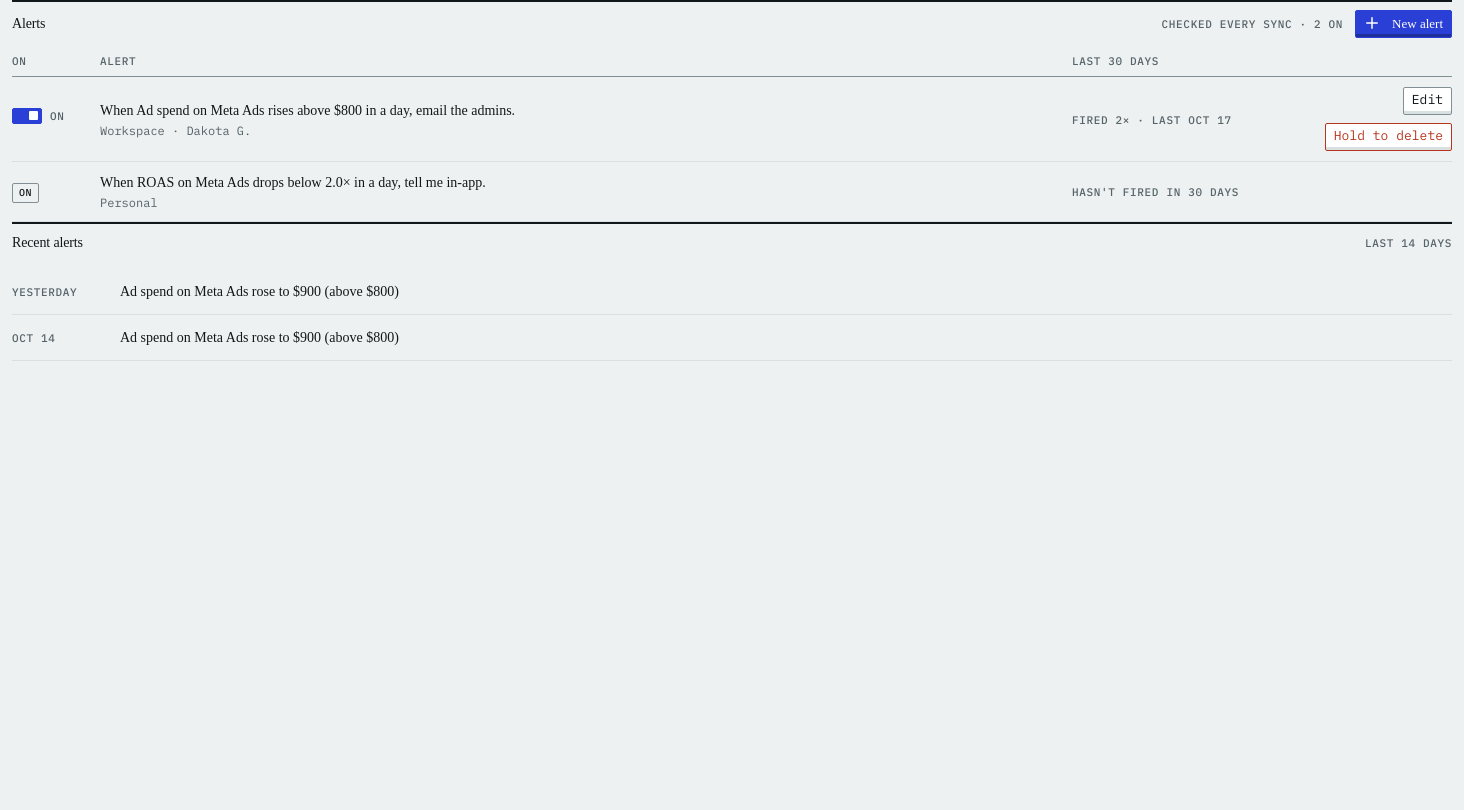
Test: AlertsPanel › adds the # to a Slack channel when you leave the slot
Click the button "New alert": click(1404, 24) [1355,10,1452,38]
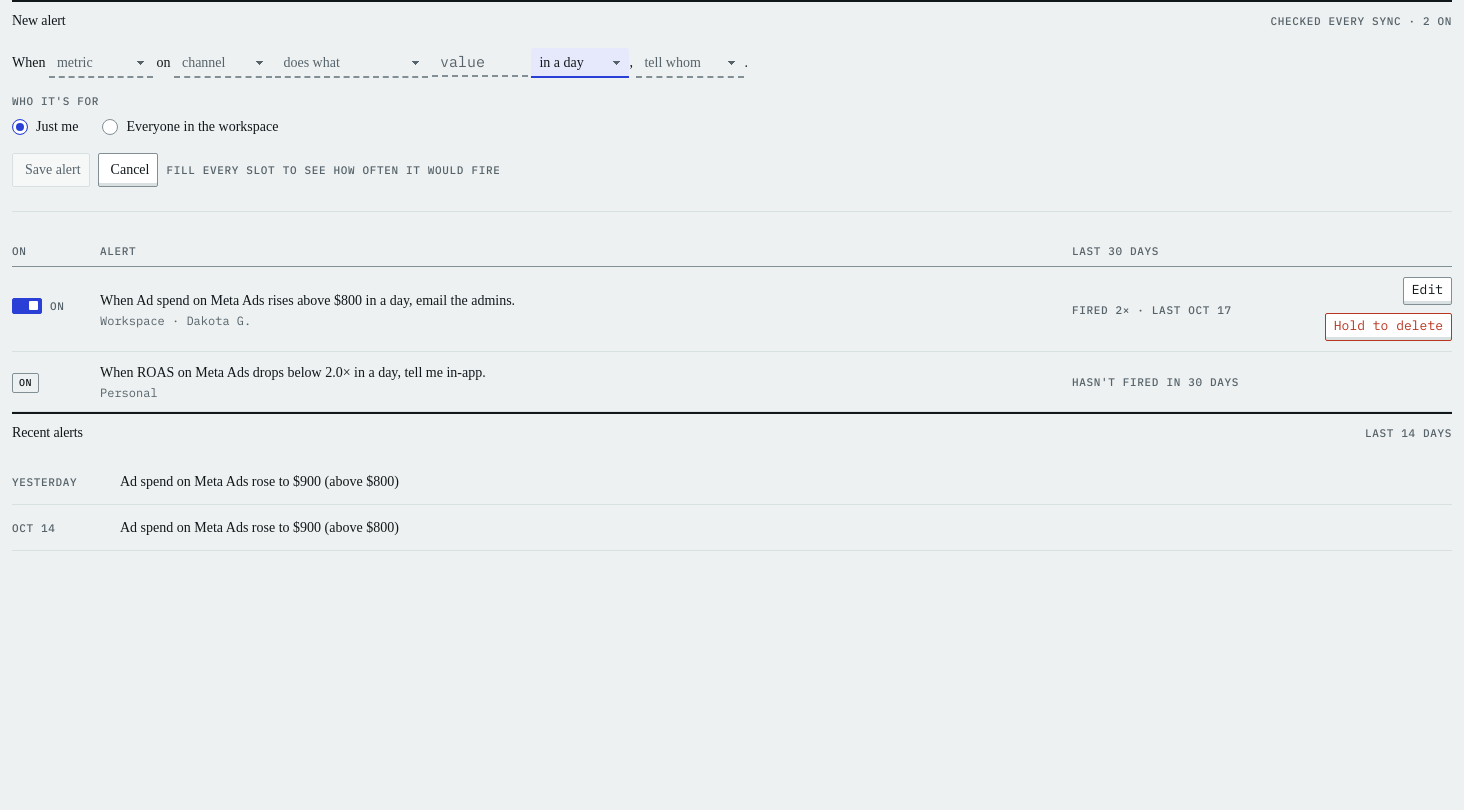
Select "post in Slack" in the dropdown named "Delivery": (690, 63) [636,48,744,78]
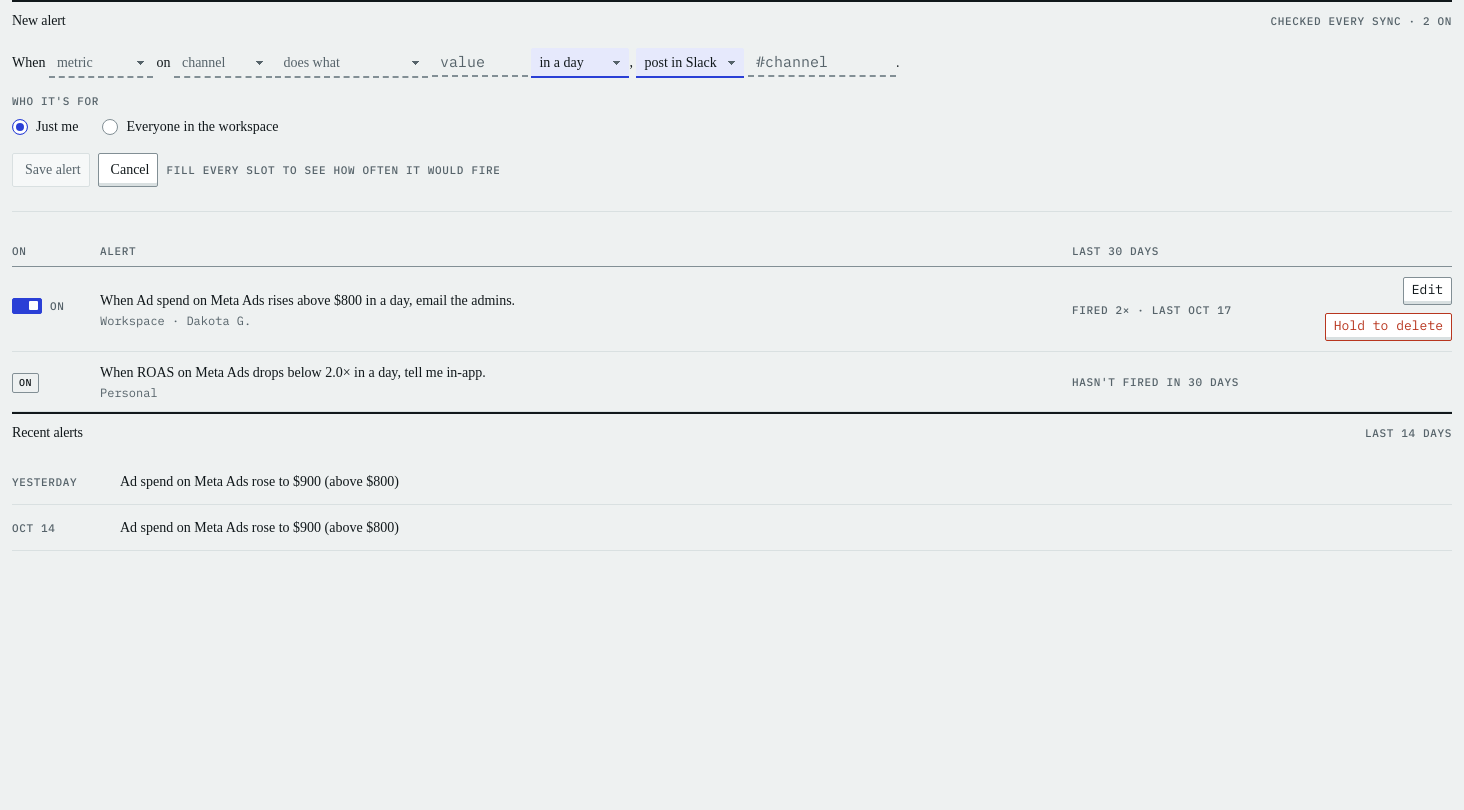
In the field named "Slack channel": (822, 62) [748,47,896,77], type "Growth"
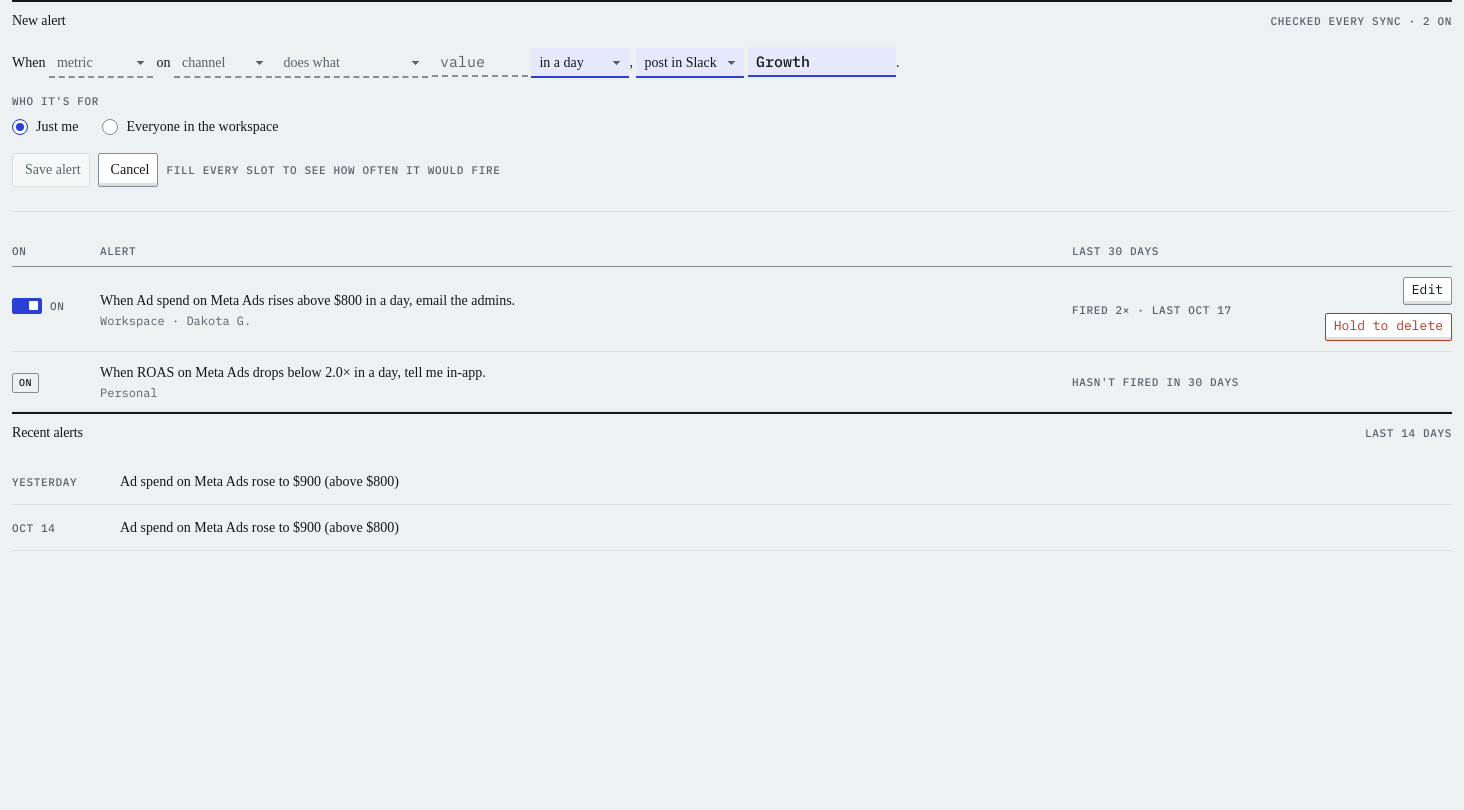
Leave the field named "Slack channel", box [748,47,896,77]
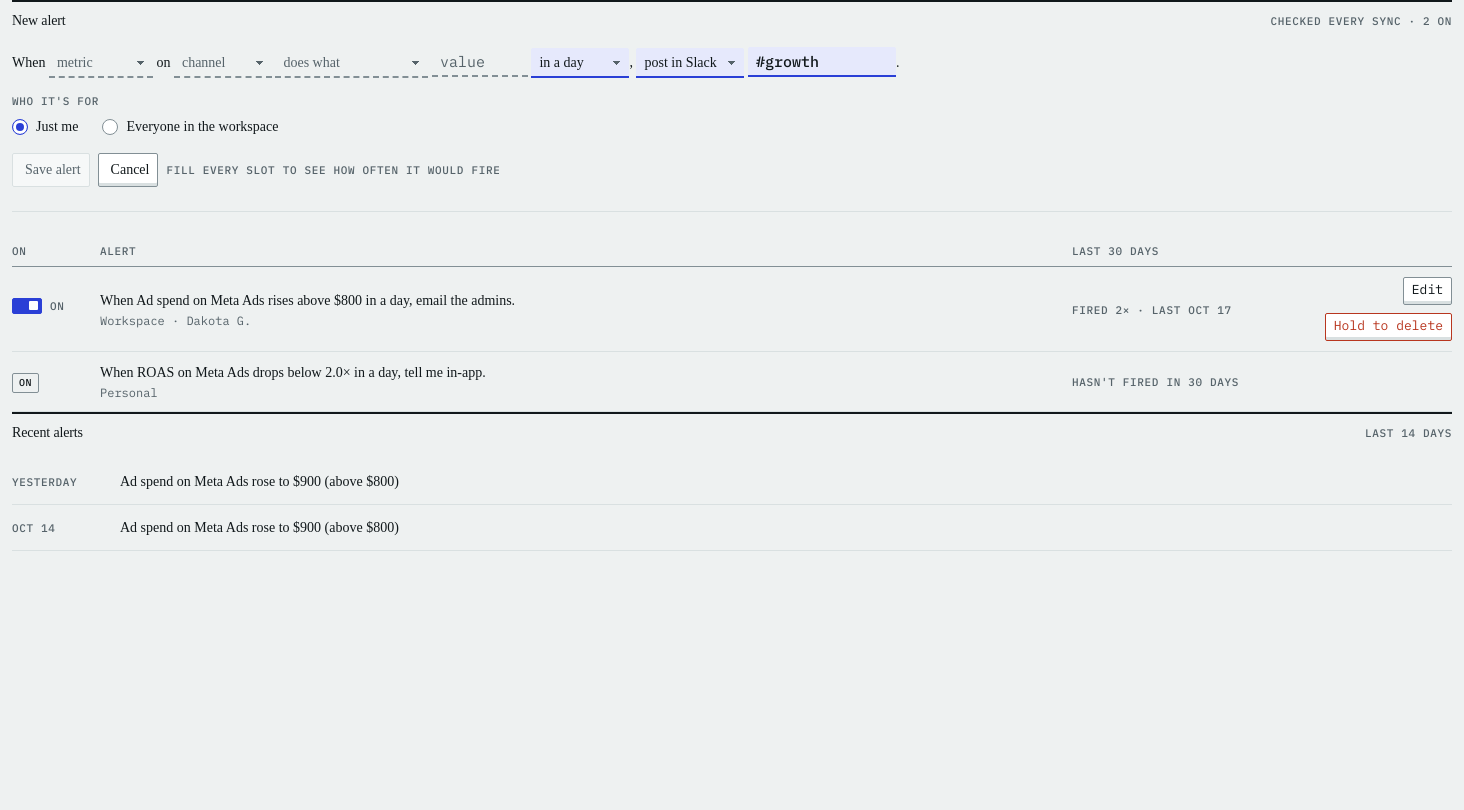
Now the field named "Slack channel" holds "#growth", box [748,47,896,77]
